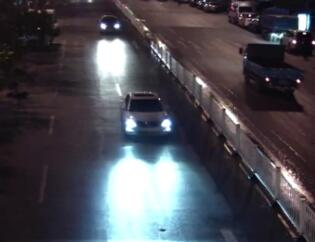car: (235, 40, 302, 101), (117, 89, 173, 141), (95, 12, 124, 38)
